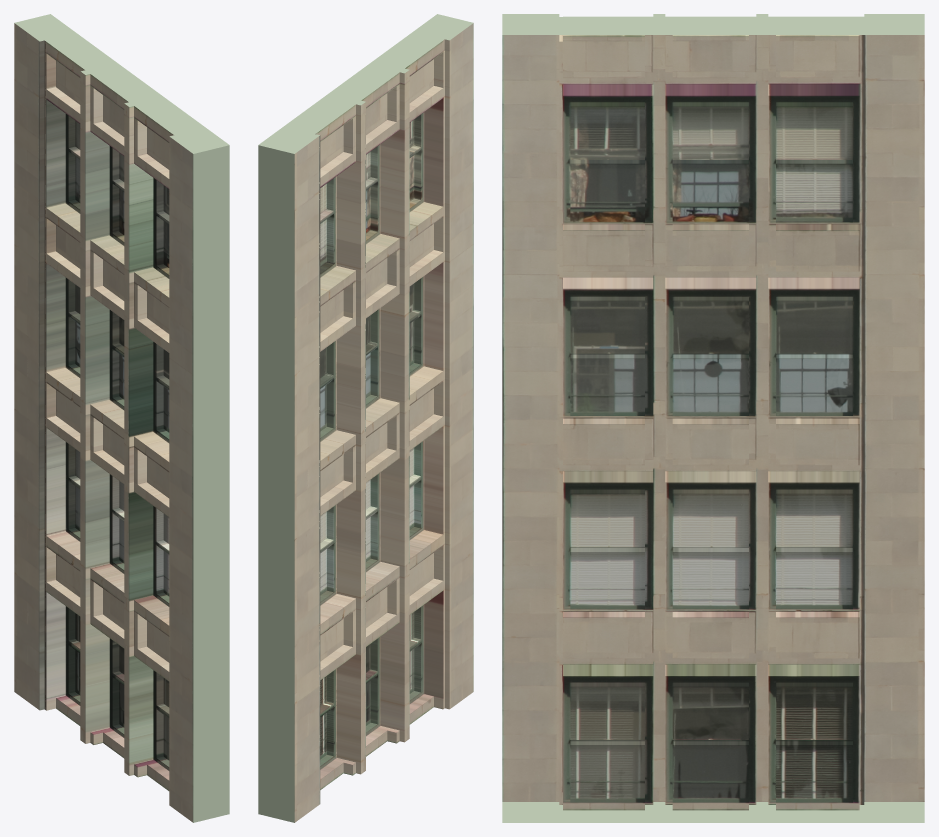
File: facade3.fbx
3 renders of one model, left to right at view 1: azimuth 30°, elevation 25°; view 2: azimuth 150°, elevation 25°; view 3: azimuth 270°, elevation 25°, orthographic. The views are drawn at different scales.
Parts seen in each view (by area): view 1: facade3; view 2: facade3; view 3: facade3.
Boxes of the visible parts, x1,y1,x2,y2 form: facade3: [14, 14, 229, 822]; facade3: [258, 14, 473, 822]; facade3: [502, 14, 924, 822].
Bounding box in the file's own units: 2.97 × 52.12 × 25.3.
Materials: 2 (2 with a texture image).
